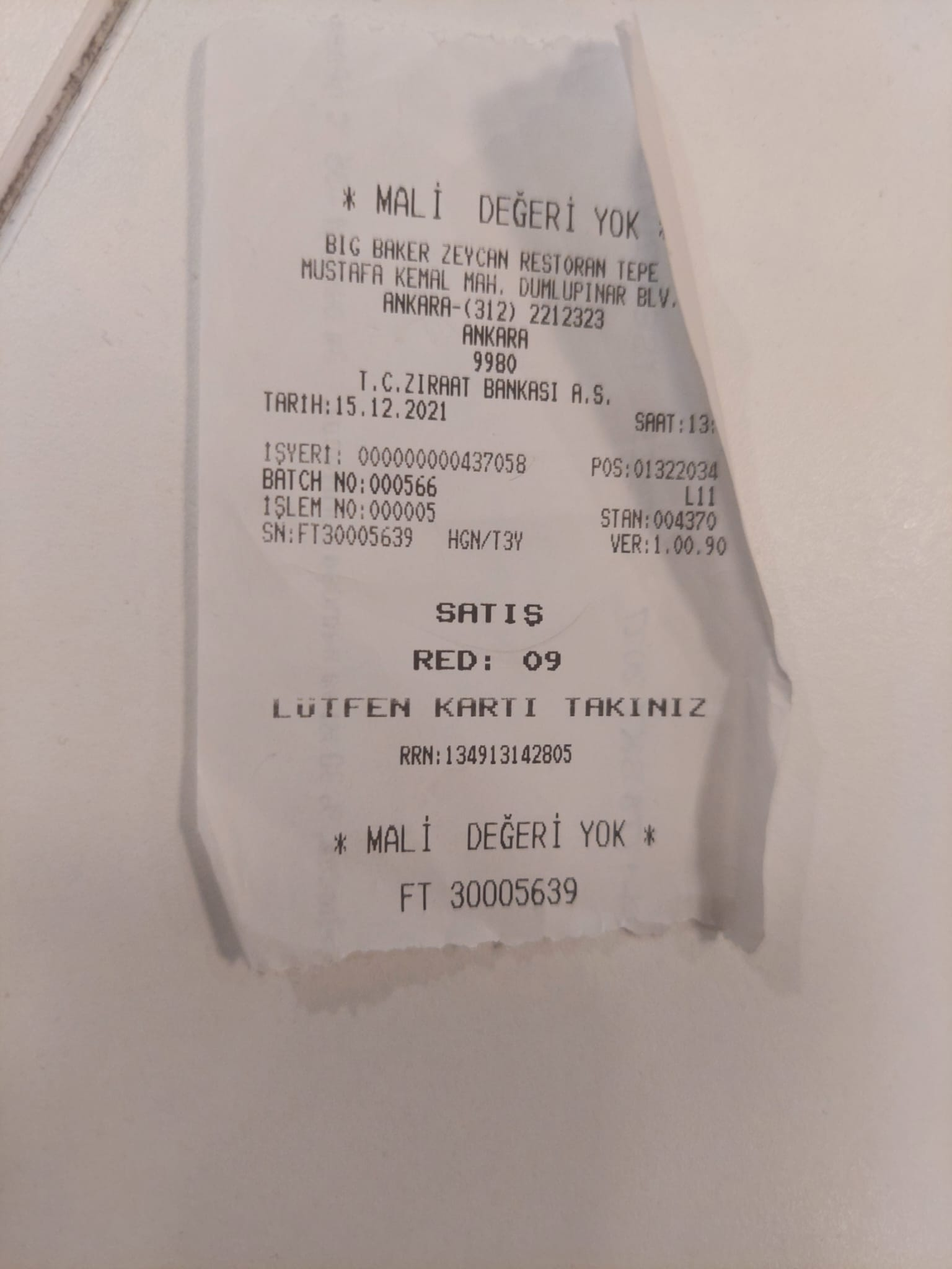price: (330, 391, 454, 429)
workplace: (283, 220, 701, 354)
